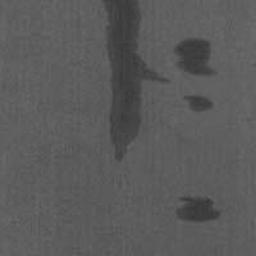Oil spot: (101, 0, 172, 164), (172, 36, 220, 78), (174, 193, 224, 224), (182, 92, 216, 114)
